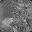people: (1, 17, 13, 28)
